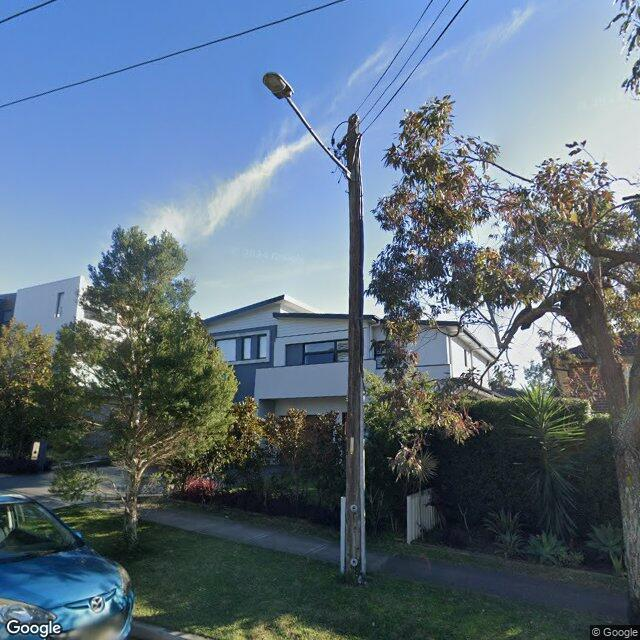streetlight: (262, 71, 351, 178)
timber-pole: (343, 114, 367, 584)
